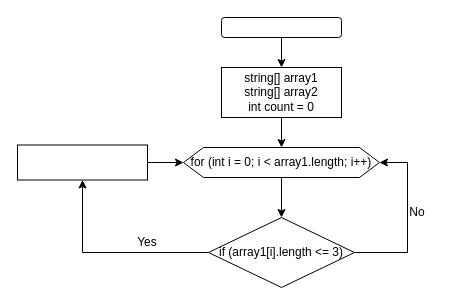
Some shapes in this 465 by 305 pixel diagram are drawn without their labels. The shapes that lost their labels are listed below. From the top down, each one's centre as x and y in pixels, then its label:
At [281,27]: "ShortArray".
At [82,162]: "array2[count] = array1[i] count++".
